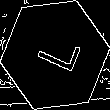L_NW: (28, 31, 82, 79)
